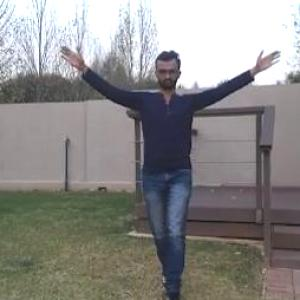takeoff: (64, 46, 283, 288)
